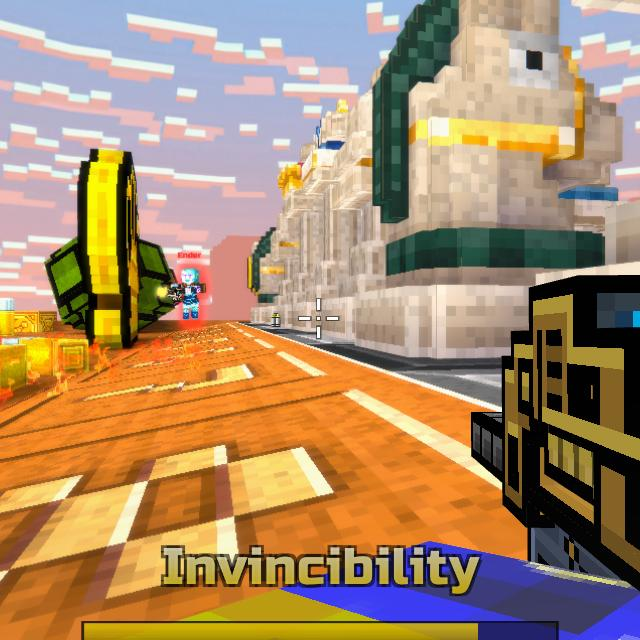Enemy: (181, 268, 206, 320)
